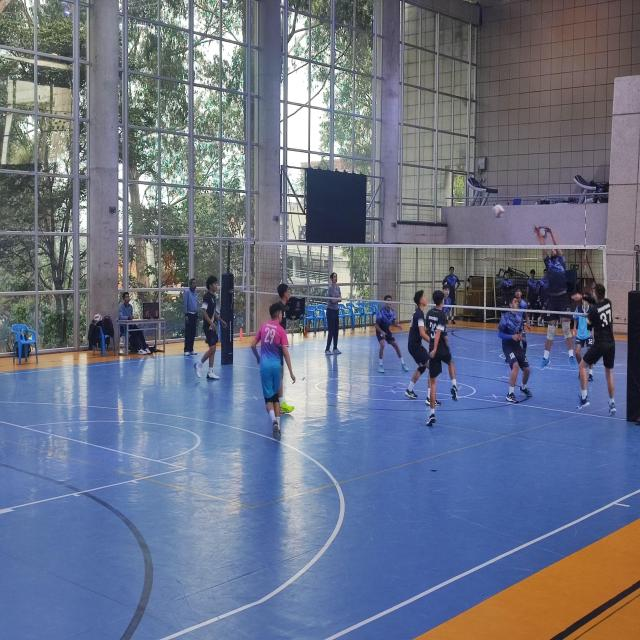volleyball: (493, 204, 504, 219), (94, 313, 102, 324)
